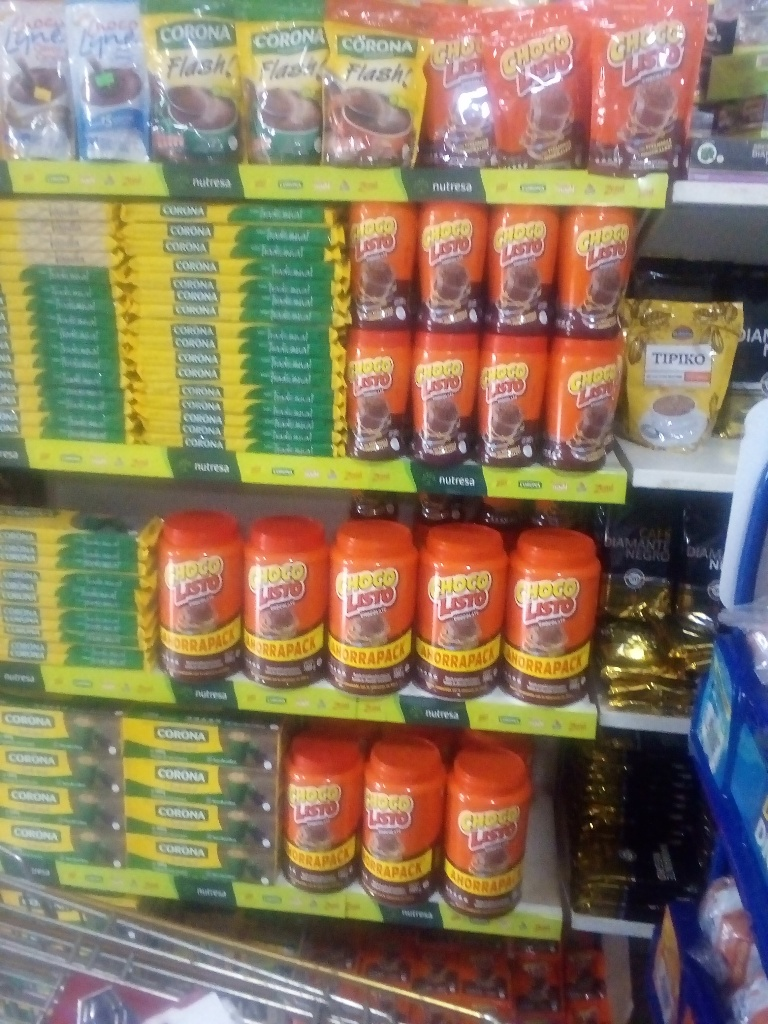COL0170103TRR00100: (151, 509, 246, 682)
